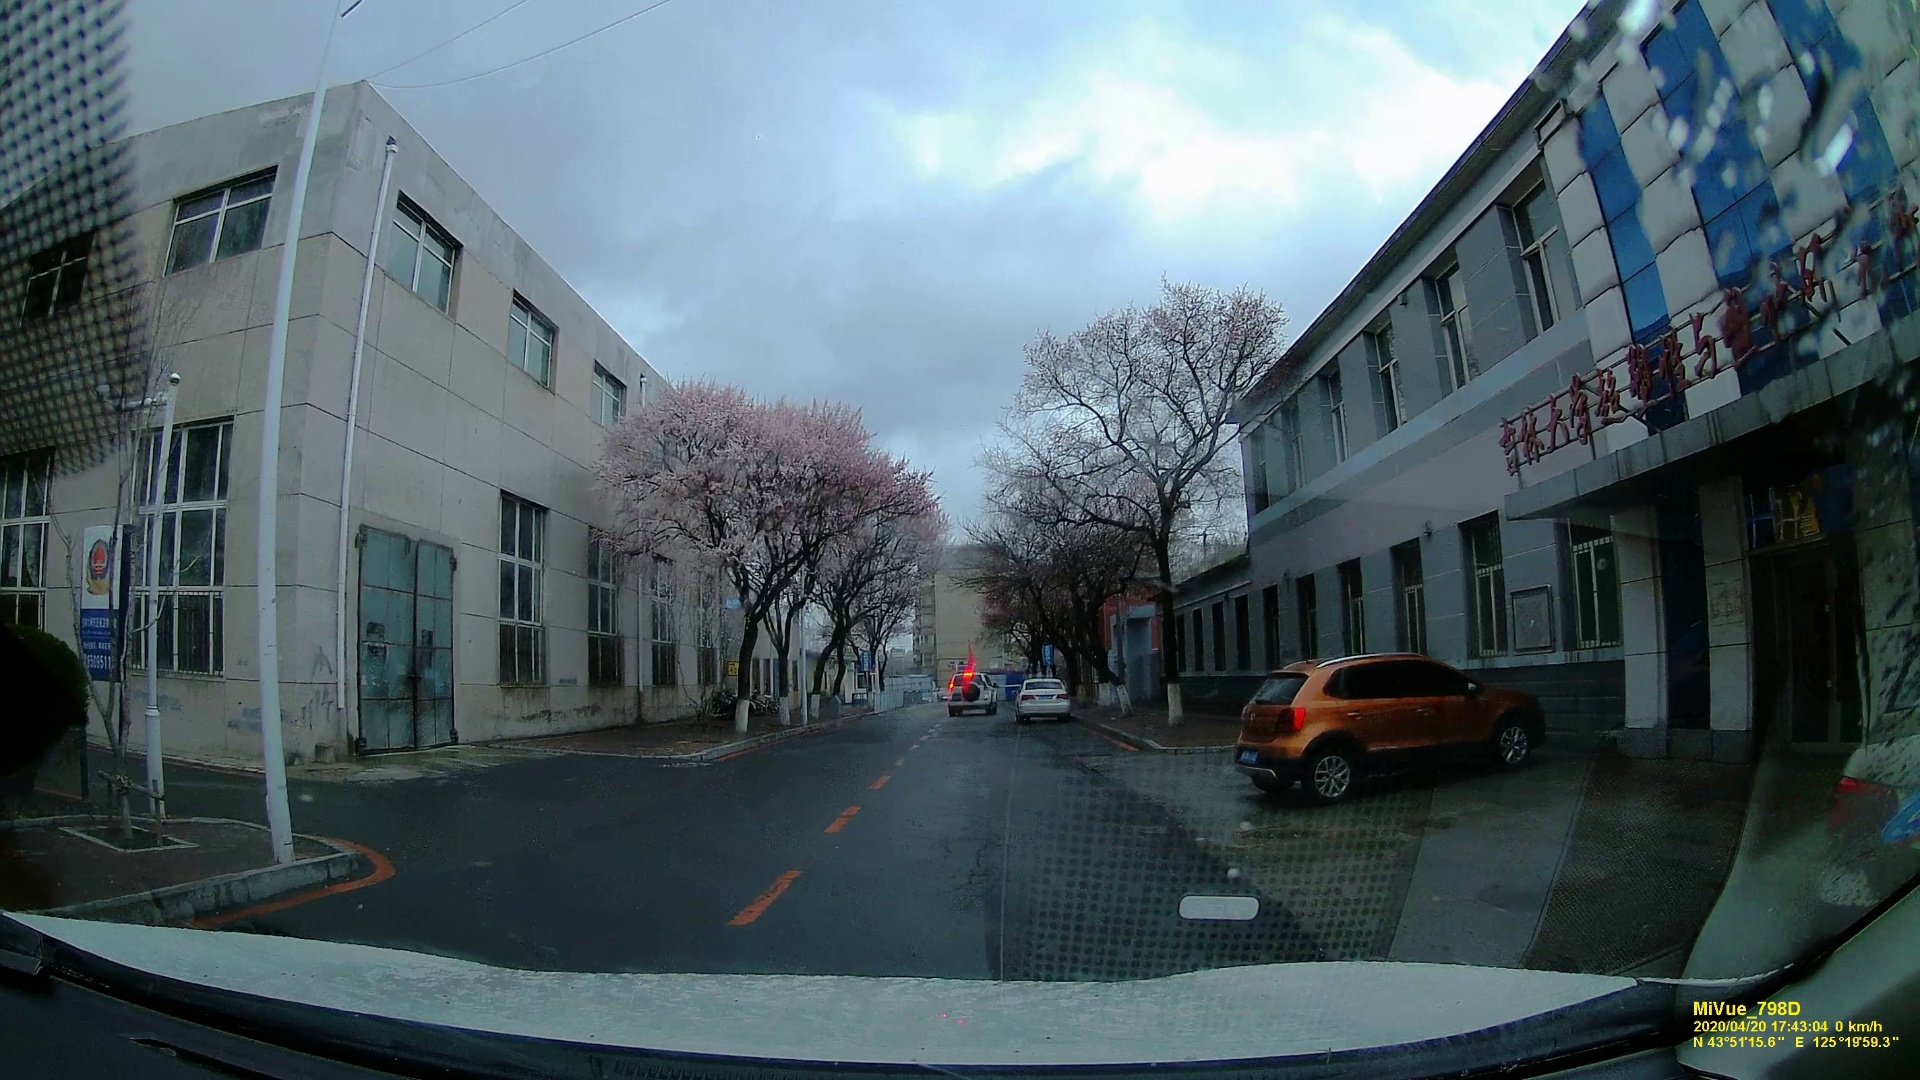traffic_sign: (78, 525, 125, 669)
vehicle: (1226, 649, 1540, 796), (1015, 678, 1069, 723), (947, 673, 1000, 716)
